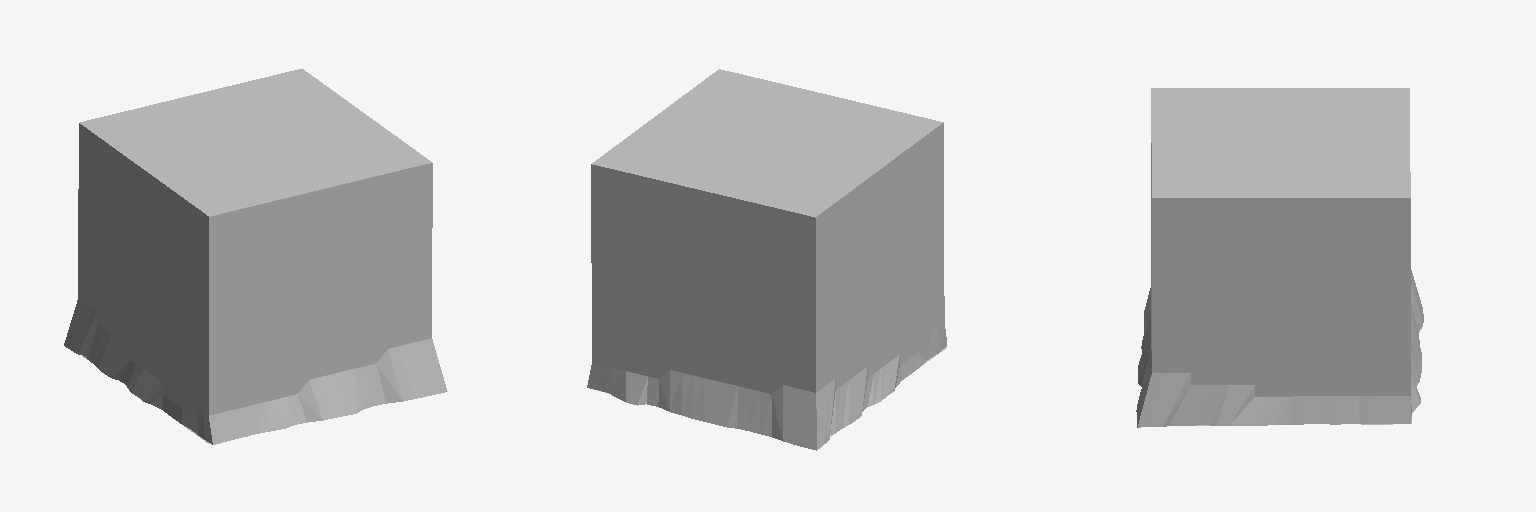
The model's file is mod0208.obj.
The picture shows the model from 3 angles: view 1: azimuth 30°, elevation 25°; view 2: azimuth 150°, elevation 25°; view 3: azimuth 270°, elevation 25°; orthographic projection.
Parts seen in each view (by area): view 1: Box001; view 2: Box001; view 3: Box001.
Part boxes in pixels (bbox=[...]): Box001: bbox=[64, 69, 447, 444]; Box001: bbox=[587, 69, 946, 450]; Box001: bbox=[1136, 88, 1423, 427].
Size of the model in its own units: 0.5799 by 0.522 by 0.5979.